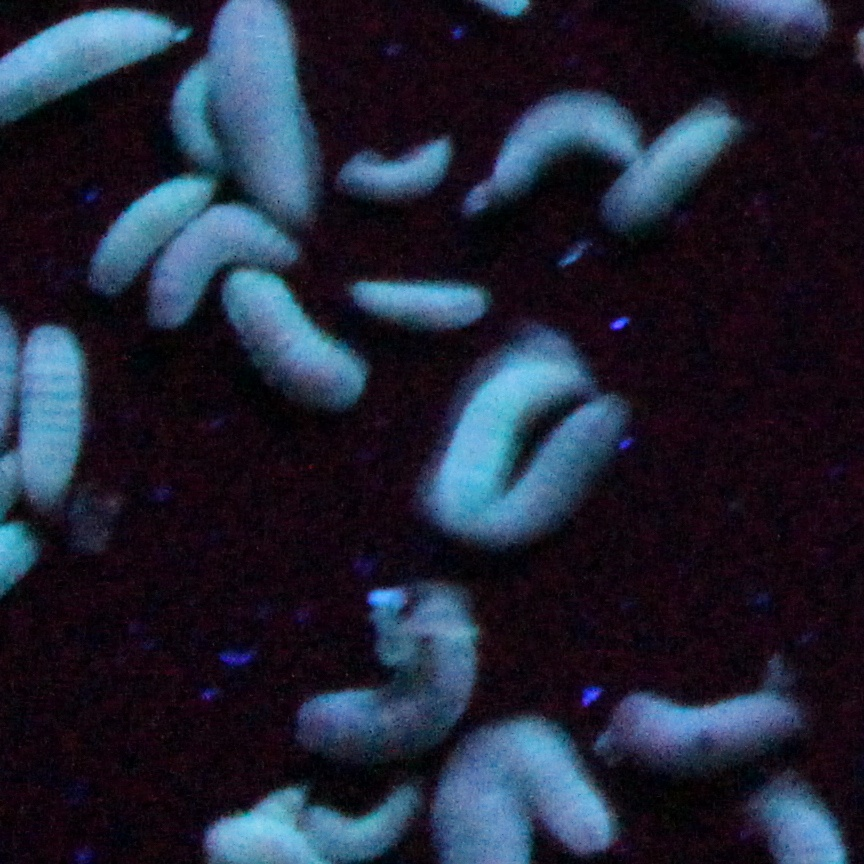larve: (307, 591, 470, 760), (221, 273, 360, 406), (423, 351, 524, 516), (158, 207, 299, 318), (521, 402, 618, 549), (618, 691, 798, 770), (502, 719, 609, 851), (89, 175, 209, 287), (499, 93, 629, 189), (12, 324, 82, 501), (627, 102, 730, 218), (291, 783, 416, 858), (340, 141, 450, 197), (353, 281, 486, 327), (165, 59, 214, 164)
